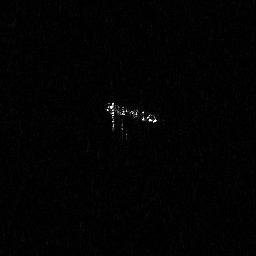ship: (104, 100, 159, 142)
